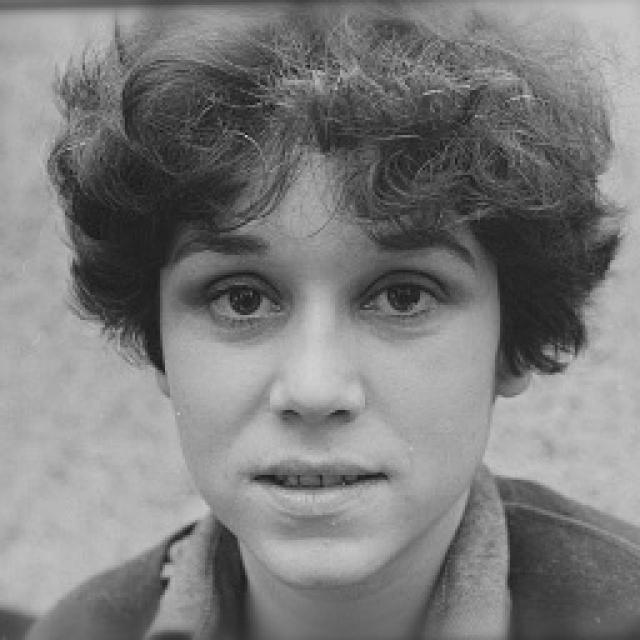no-glasses: (170, 255, 478, 338)
